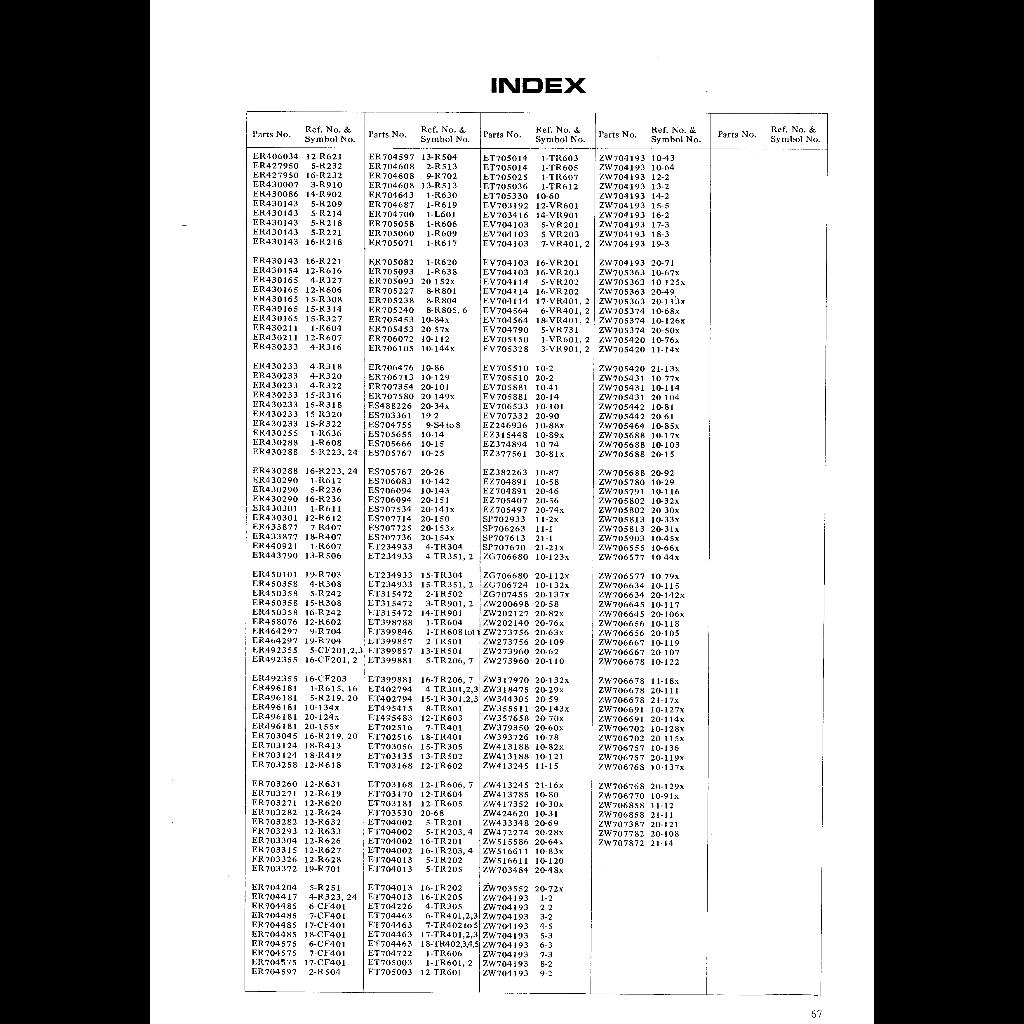Table: (244, 108, 826, 1000)
